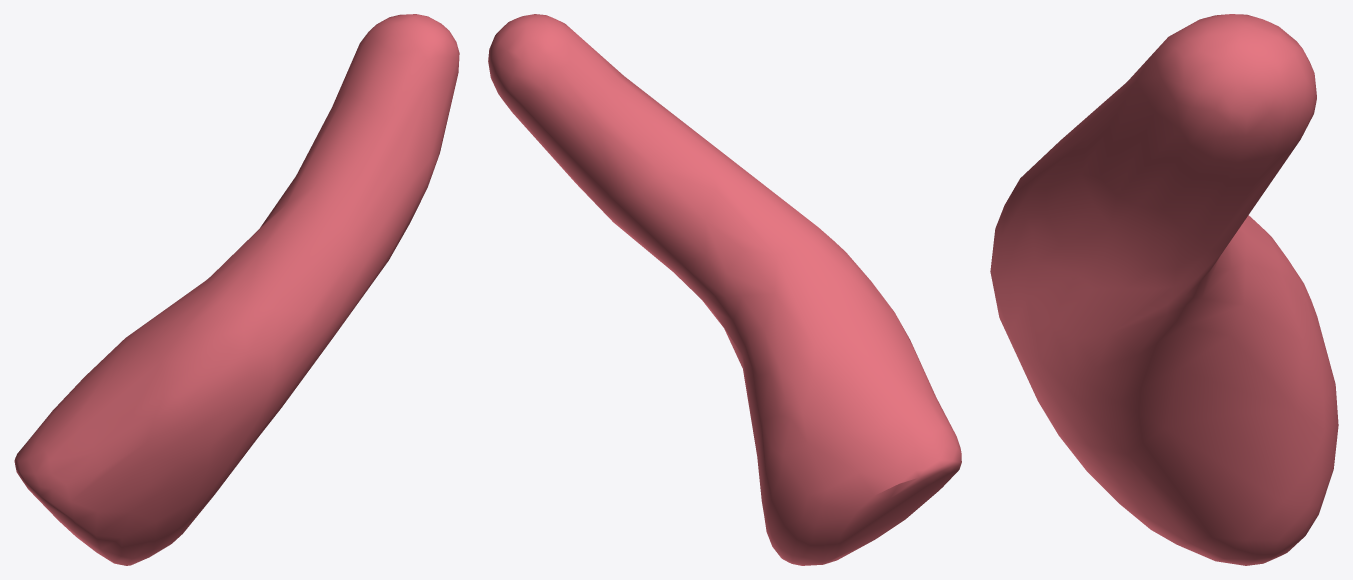
File: fma4761_fj3482.glb
3 renders of one model, left to right at view 1: azimuth 30°, elevation 25°; view 2: azimuth 150°, elevation 25°; view 3: azimuth 270°, elevation 25°, orthographic. The views are drawn at different scales.
Parts seen in each view (by area): view 1: FMA4761_FJ3482; view 2: FMA4761_FJ3482; view 3: FMA4761_FJ3482.
Boxes of the visible parts, bbox=[...] form: FMA4761_FJ3482: bbox=[14, 14, 459, 565]; FMA4761_FJ3482: bbox=[488, 14, 961, 565]; FMA4761_FJ3482: bbox=[990, 14, 1338, 565].
Size of the model in its own units: 0.0518 by 0.0521 by 0.0218.
